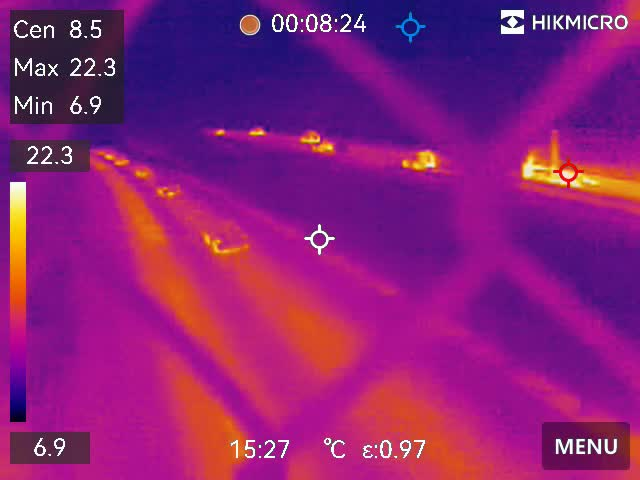heavyTruck: (516, 121, 640, 199)
vehicle: (198, 222, 251, 257), (401, 146, 437, 170), (154, 180, 182, 201), (292, 128, 318, 143), (311, 139, 337, 153), (110, 156, 134, 168), (135, 166, 155, 180), (250, 122, 266, 138)
